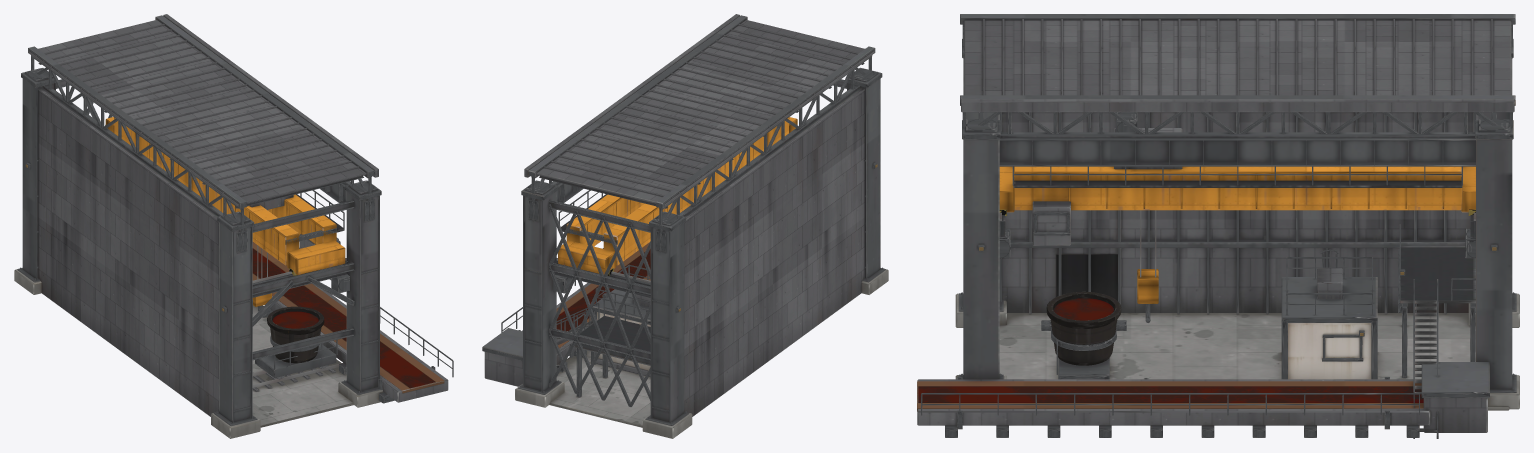
Rendered from pourBay.glb.
3 views of the same model, side by side, from view 1: azimuth 30°, elevation 25°; view 2: azimuth 150°, elevation 25°; view 3: azimuth 270°, elevation 25° (orthographic). The views are drawn at different scales.
Visible parts, largest first — view 1: pourBay; view 2: pourBay; view 3: pourBay.
Part boxes in pixels (<box>): pourBay: <box>14,14,453,438</box>; pourBay: <box>482,14,888,438</box>; pourBay: <box>917,14,1519,438</box>.
Bounding box in the file's own units: 14.83 × 15.77 × 28.21.
1 material, 1 textured.
